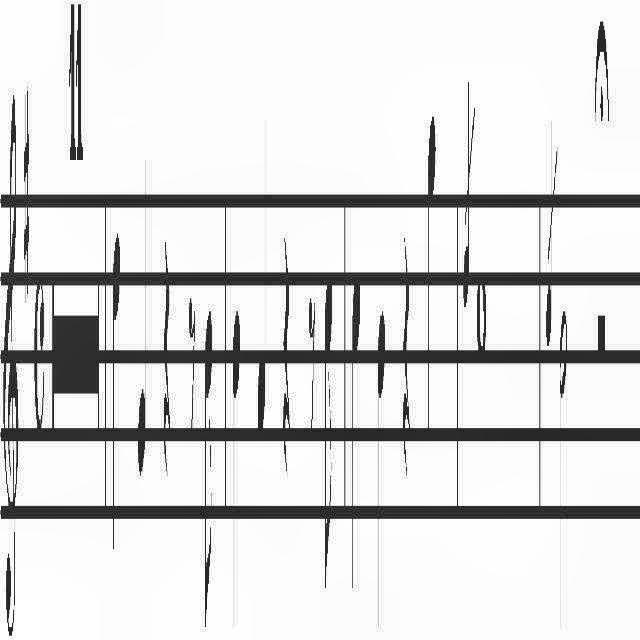Bass-clef: (2, 86, 18, 640)
Diez: (22, 68, 30, 320)
Eighth-rest: (188, 277, 196, 455), (308, 286, 316, 450)
Full-note: (477, 264, 488, 360)
Half-note: (558, 298, 568, 640)
Quarter-note: (111, 221, 121, 567), (426, 108, 436, 450), (350, 268, 360, 606), (376, 302, 386, 628), (138, 148, 146, 480), (258, 122, 266, 450), (232, 312, 240, 632)
Quarter-rest: (401, 229, 411, 489), (162, 233, 170, 475), (282, 233, 290, 475)
